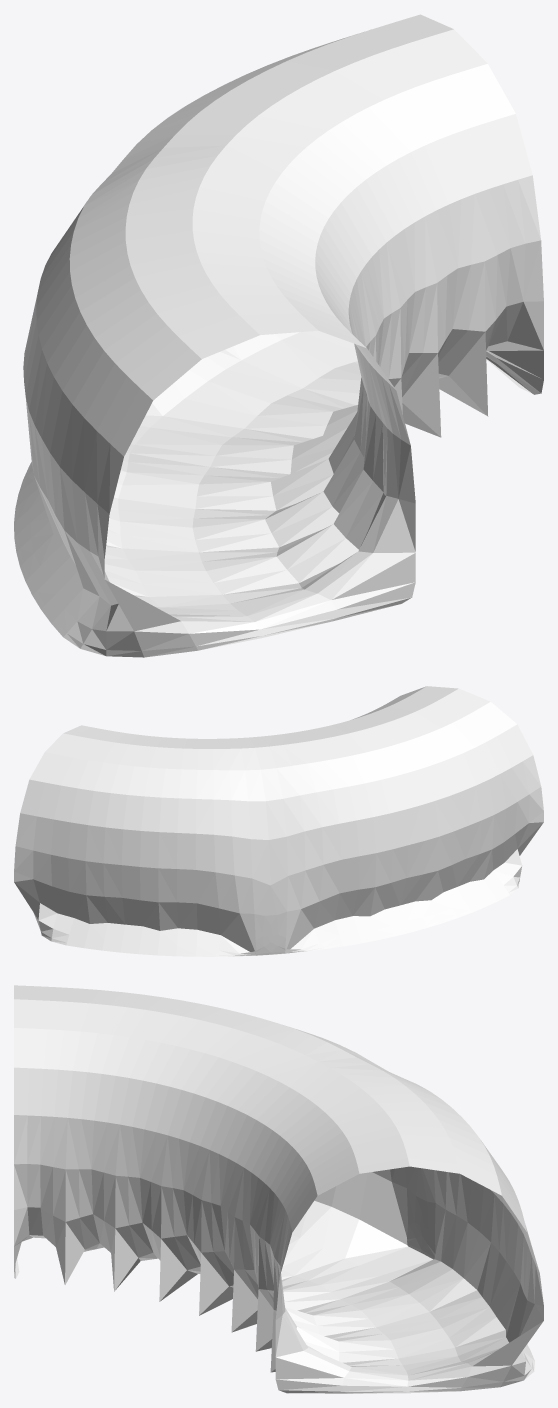
File: pipeBent.obj
3 renders of one model, top to bottom at view 1: azimuth 30°, elevation 25°; view 2: azimuth 150°, elevation 25°; view 3: azimuth 270°, elevation 25°, orthographic. The views are drawn at different scales.
Parts seen in each view (by area): view 1: Circle; view 2: Circle; view 3: Circle.
Boxes of the visible parts, x1=… form: Circle: x1=14, y1=14, x2=543, y2=657; Circle: x1=14, y1=686, x2=543, y2=956; Circle: x1=14, y1=985, x2=543, y2=1393.
Bounding box in the file's own units: 2.03 × 0.9599 × 2.03.
